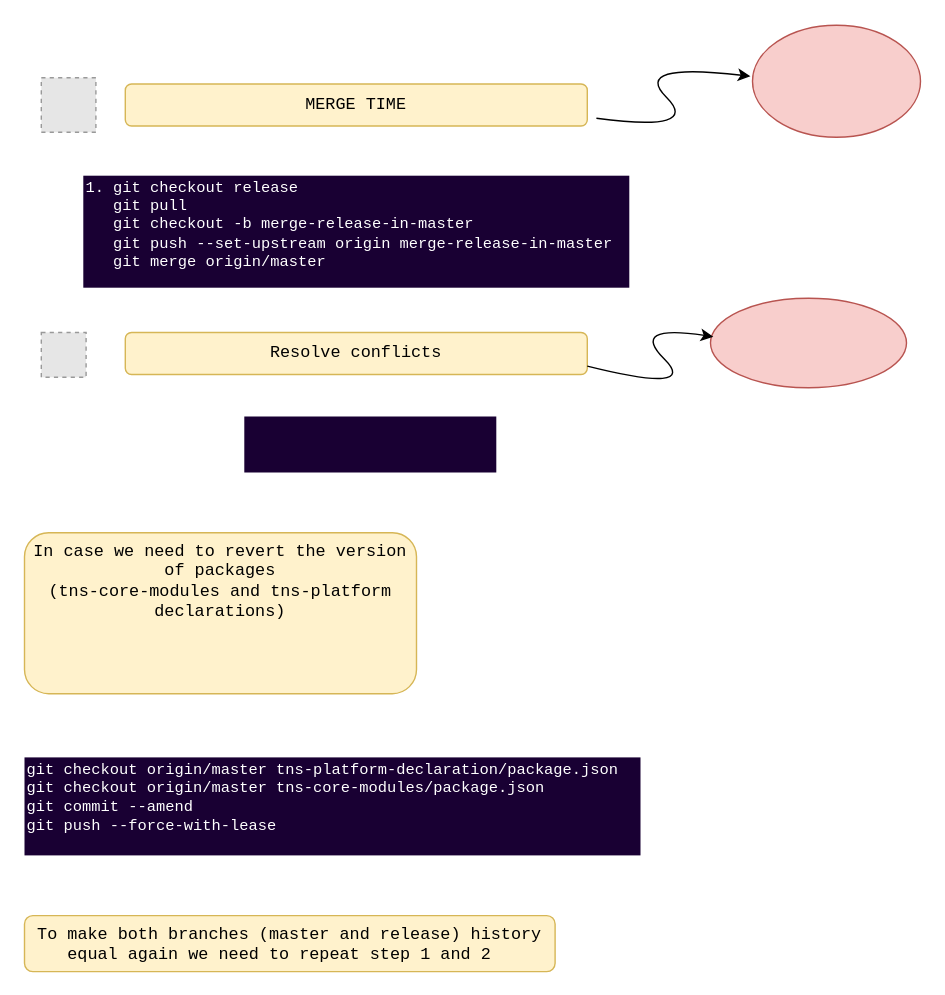
This 945x995 diagram has some shape labels left out. Grey dashed boxes stand in for pictures. Here are the shapes that lost their labels. From the top down, the box of each, then its label:
(751, 24, 920, 137): We need to keep both branches with the same history
(709, 297, 906, 388): Using default merge message
(244, 416, 496, 472): 2. git add (resolved files) git commit git push
